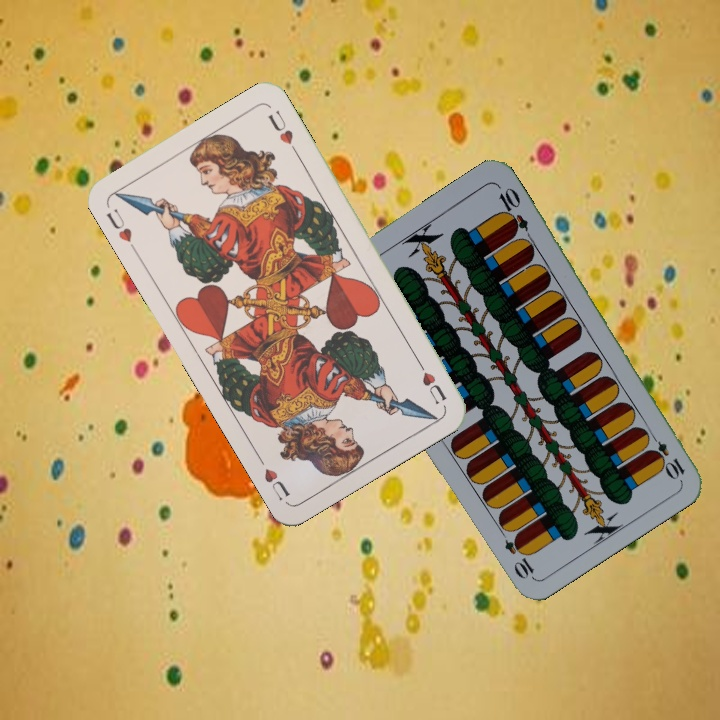E10: (644, 428, 688, 482)
HU: (412, 354, 449, 407), (102, 204, 135, 245)
